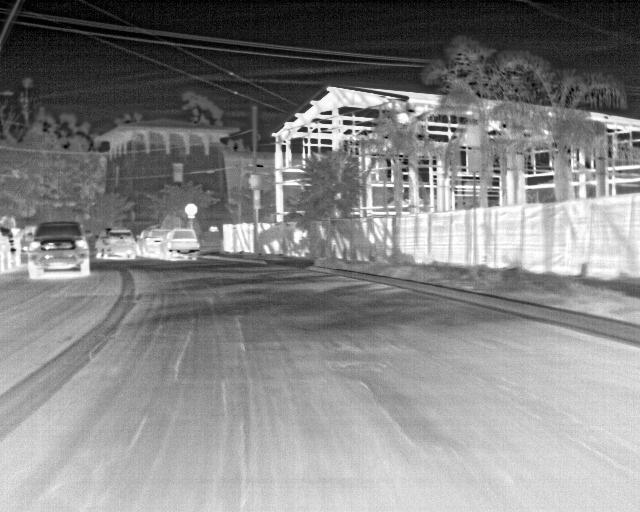car: (25, 222, 91, 278), (96, 227, 139, 260), (162, 226, 199, 261), (137, 225, 171, 257), (0, 226, 22, 273)
